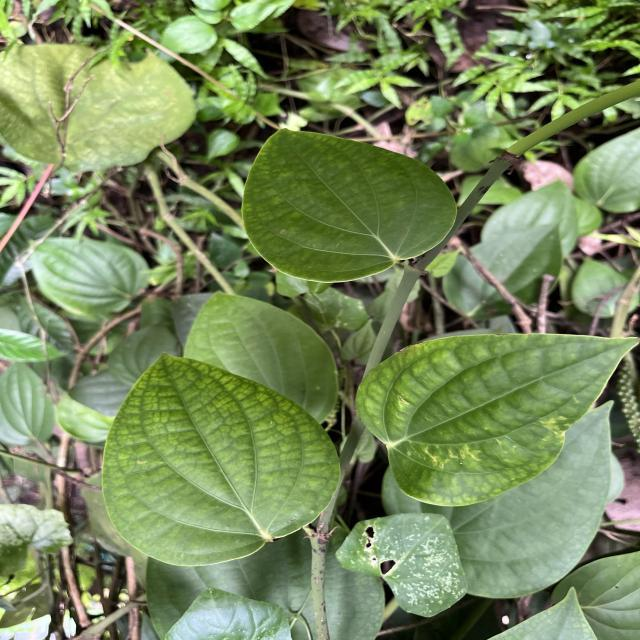Piper nigrum: (100, 351, 344, 568), (351, 331, 640, 509), (240, 126, 460, 285)
